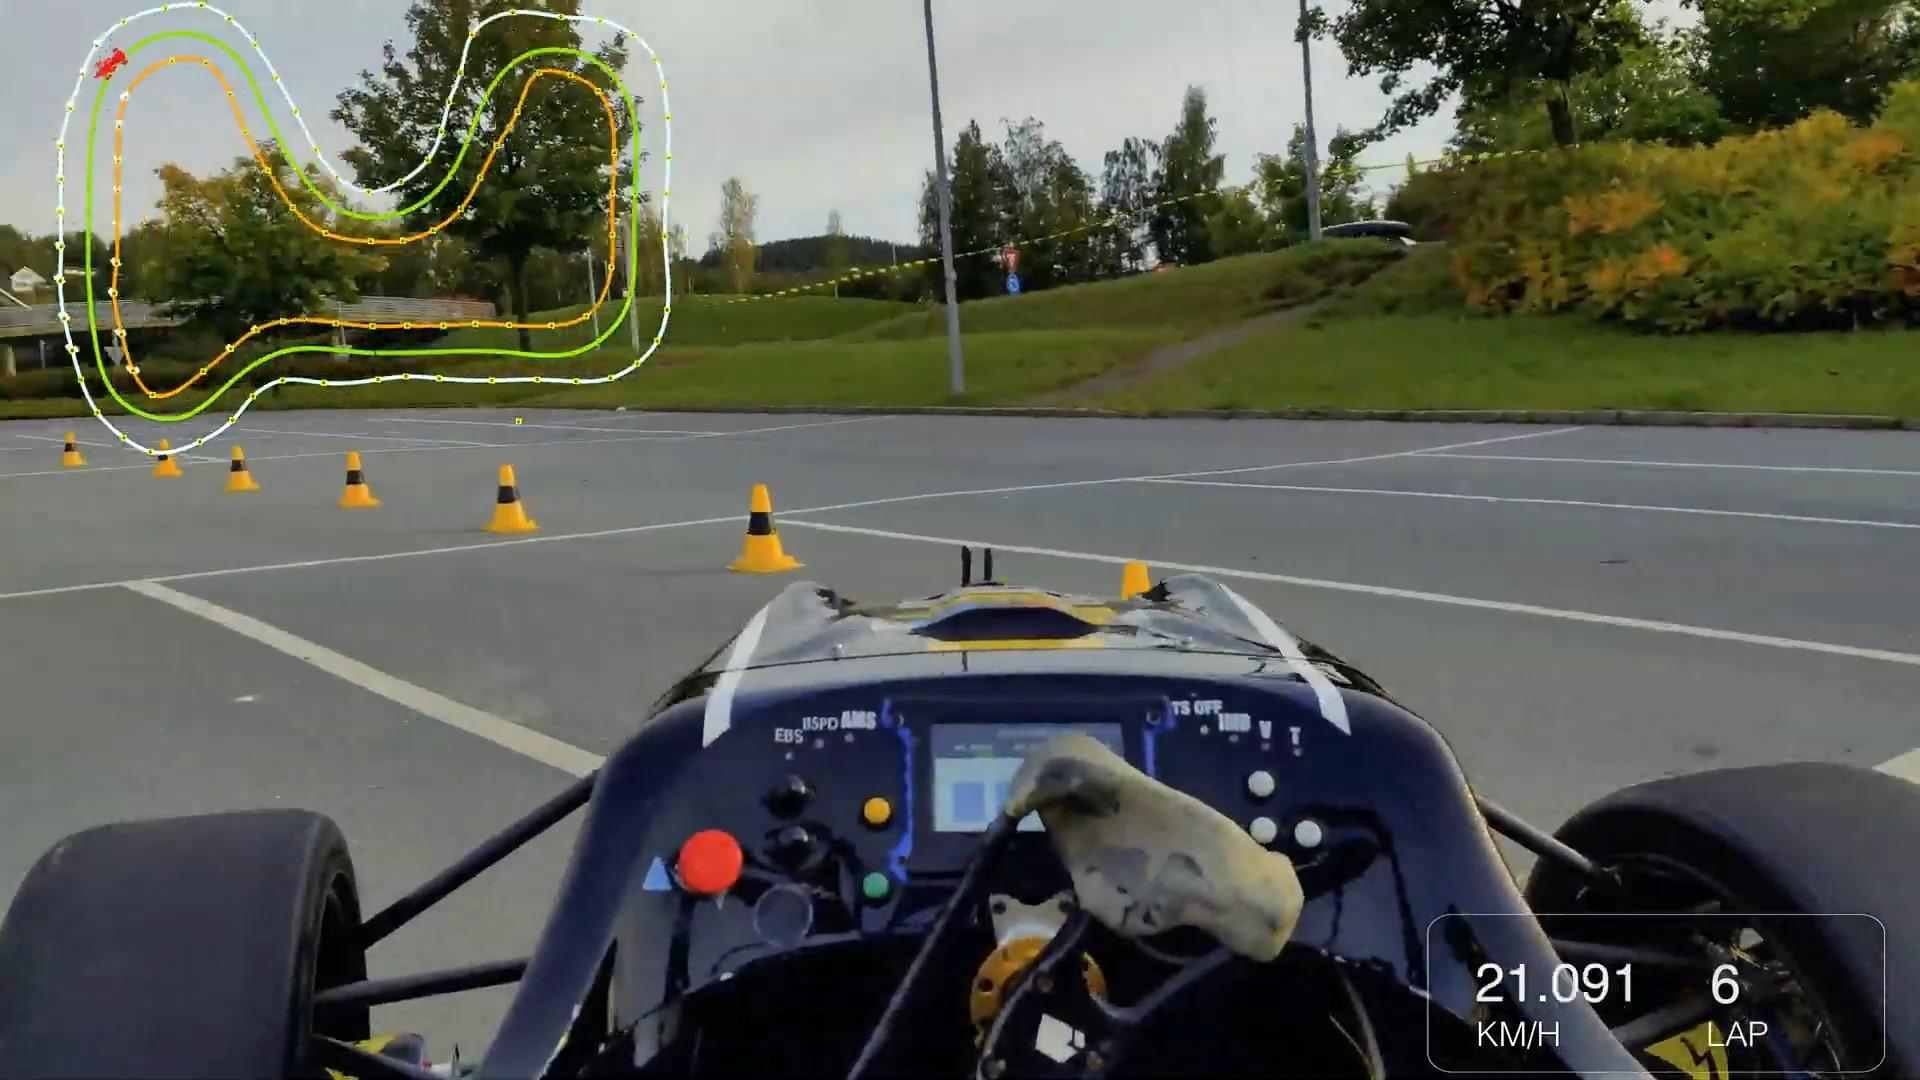yellow_cone: (1080, 556, 1193, 738), (725, 487, 800, 570), (487, 460, 538, 534), (334, 443, 380, 513), (222, 439, 258, 493), (154, 433, 182, 477), (62, 431, 86, 468)
